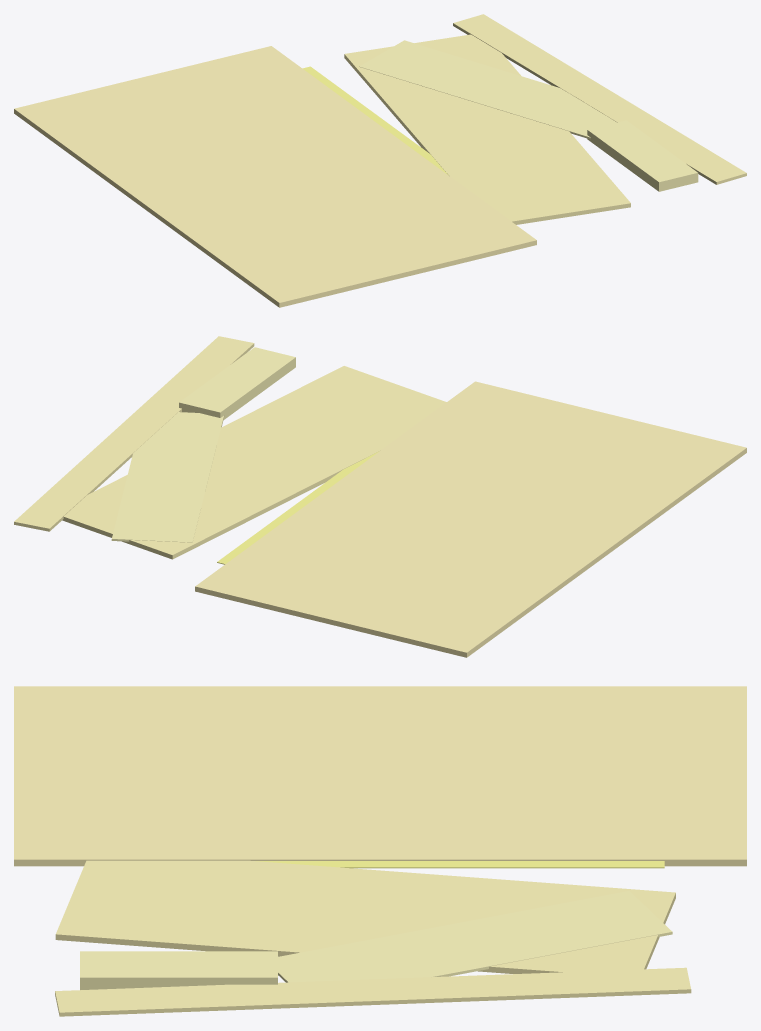
Rendered from road_ramp_gore_transition.glb.
The picture shows the model from 3 angles, top to bottom: view 1: azimuth 30°, elevation 25°; view 2: azimuth 150°, elevation 25°; view 3: azimuth 270°, elevation 25°; orthographic projection. The views are drawn at different scales.
Parts seen in each view (by area): view 1: mainline, ramp_branch, gore_fill, outer_shoulder, nose_pad, edge_band; view 2: mainline, ramp_branch, gore_fill, outer_shoulder, nose_pad, edge_band; view 3: mainline, ramp_branch, gore_fill, outer_shoulder, nose_pad, edge_band.
Part boxes in pixels (bbox=[...]): mainline: bbox=[14, 46, 536, 307]; ramp_branch: bbox=[344, 34, 630, 224]; gore_fill: bbox=[359, 40, 616, 139]; outer_shoulder: bbox=[453, 14, 746, 184]; nose_pad: bbox=[587, 120, 698, 191]; edge_band: bbox=[302, 66, 448, 175]; mainline: bbox=[195, 381, 746, 657]; ramp_branch: bbox=[62, 366, 446, 559]; gore_fill: bbox=[111, 412, 224, 542]; outer_shoulder: bbox=[14, 336, 254, 531]; nose_pad: bbox=[179, 347, 295, 420]; edge_band: bbox=[217, 451, 379, 564]; mainline: bbox=[14, 686, 746, 866]; ramp_branch: bbox=[55, 860, 675, 973]; gore_fill: bbox=[278, 891, 672, 982]; outer_shoulder: bbox=[55, 967, 691, 1016]; nose_pad: bbox=[80, 951, 277, 989]; edge_band: bbox=[255, 861, 664, 868].
Size of the model in its own units: 4.21 by 0.08 by 4.
